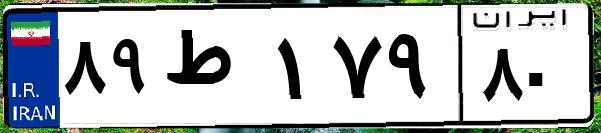0: (525, 38, 570, 115)
1: (270, 28, 330, 110)
7: (330, 28, 385, 110)
8: (57, 26, 110, 100), (475, 38, 525, 113)
9: (385, 28, 445, 110), (110, 28, 158, 98)
ط: (158, 20, 270, 120)
